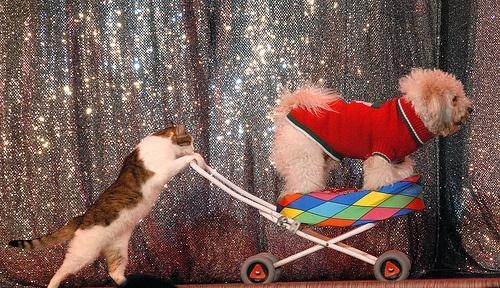cat: (8, 122, 207, 288)
dog: (272, 69, 474, 199)
